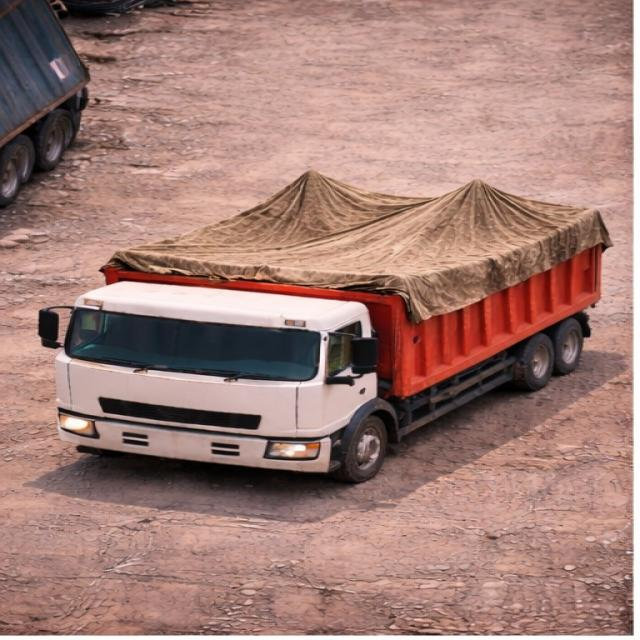trailer: (108, 172, 607, 289)
truck: (34, 164, 620, 474)
